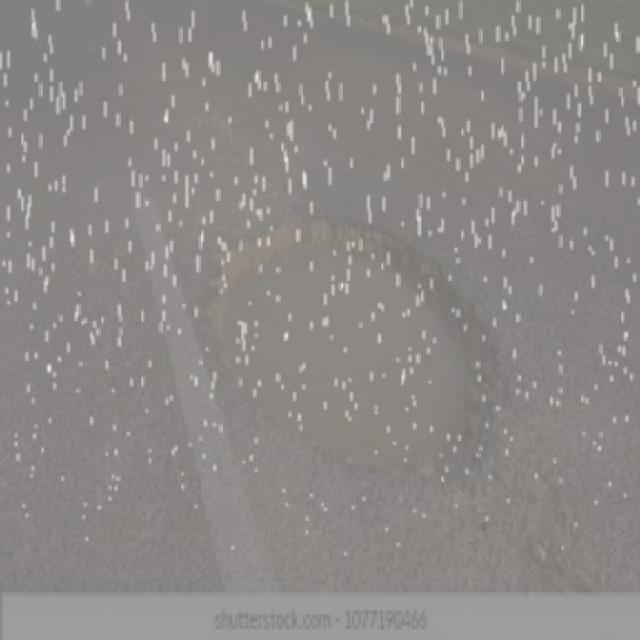Pothole: (188, 200, 507, 524)
